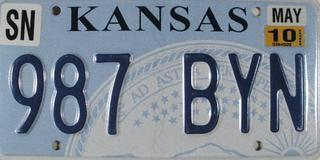placa de veiculo: (4, 2, 314, 156)
